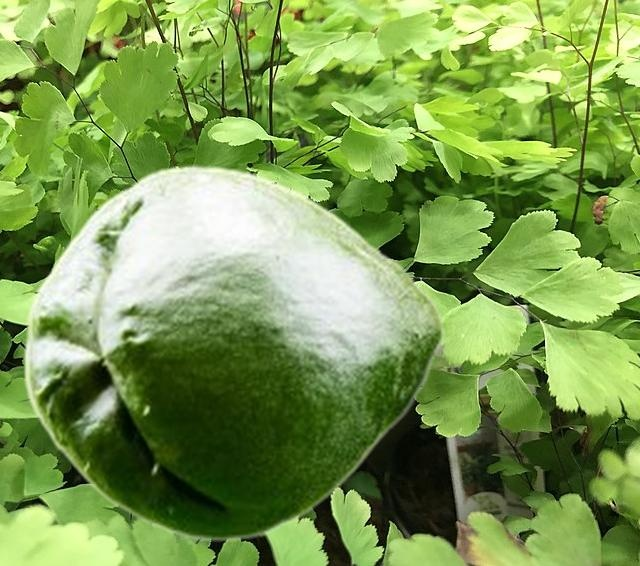sayote: (22, 164, 444, 541)
